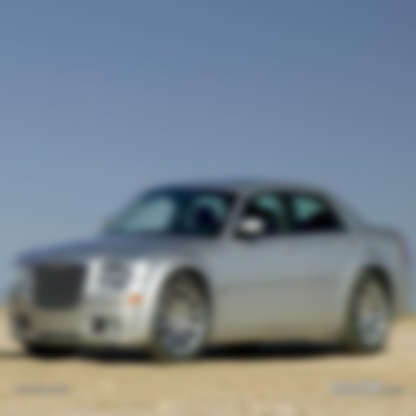Vehicle: (6, 176, 412, 364)
